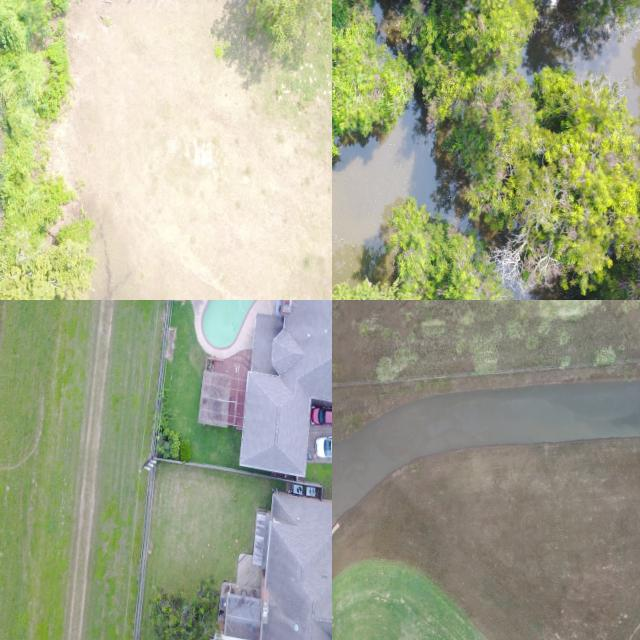fire: (332, 379, 640, 525), (332, 101, 444, 288), (523, 12, 640, 124)
